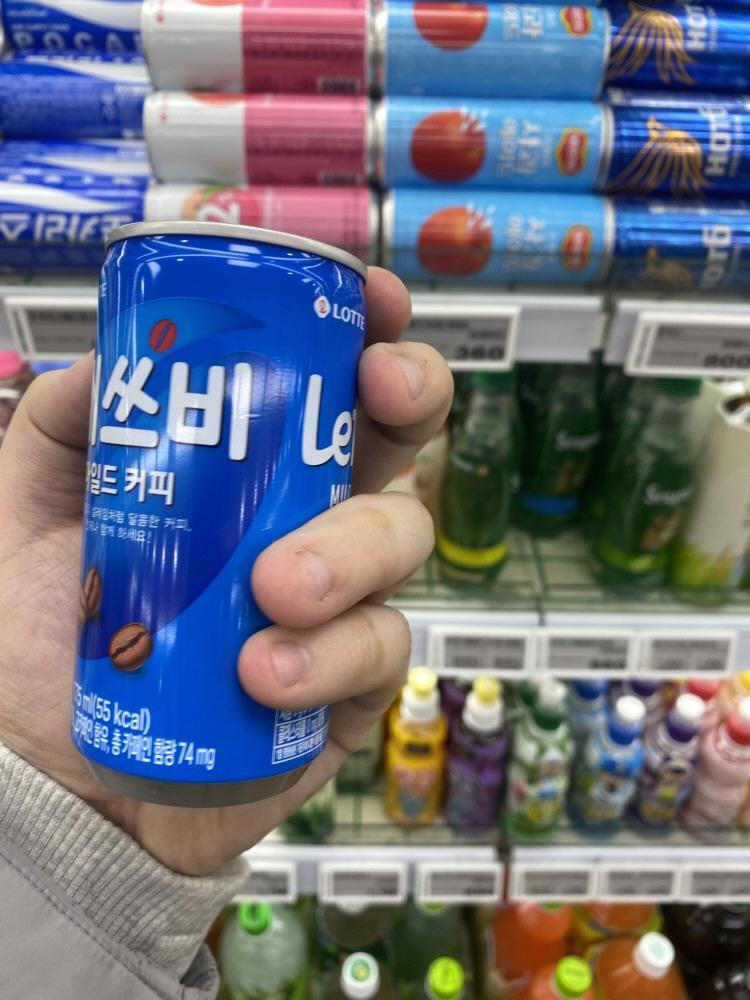letsbe: (76, 195, 364, 811)
